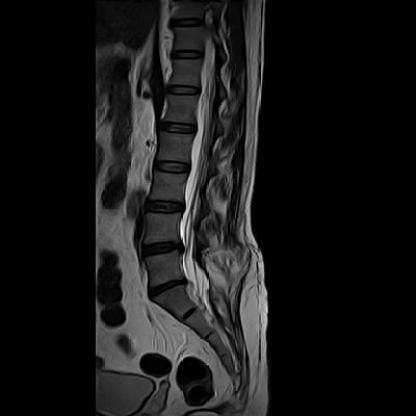Disc Bulgerotation: (138, 237, 183, 256), (146, 279, 186, 296)
